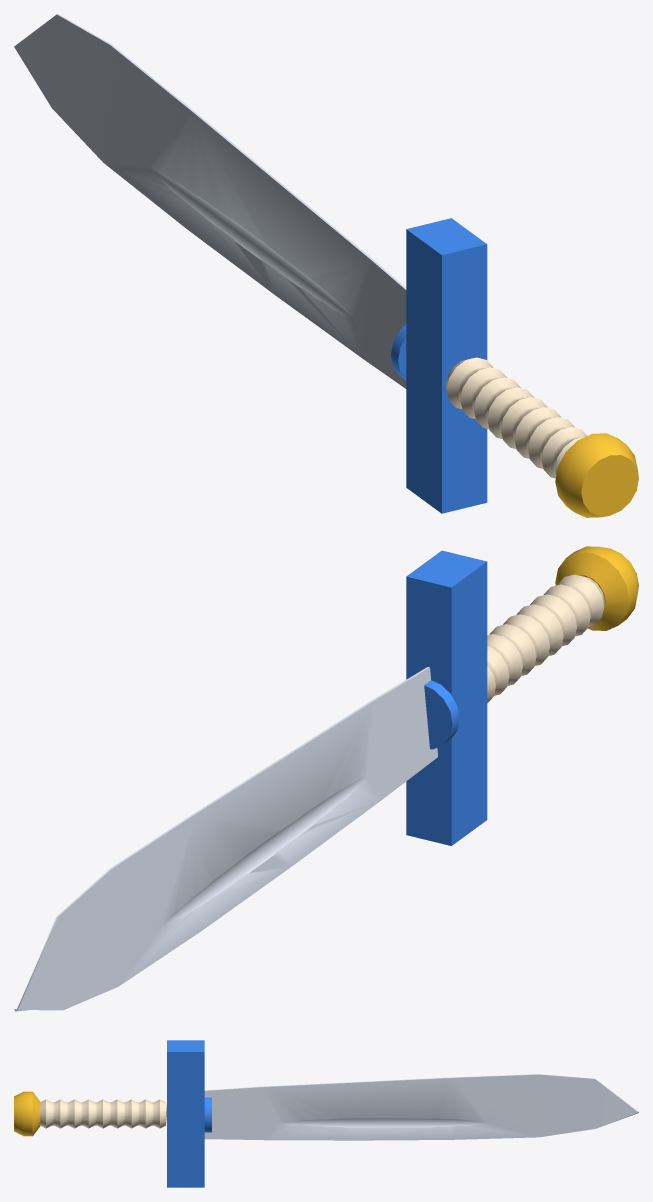
Rendered from SwordMeshTemplate.glb.
3 renders of one model, top to bottom at view 1: azimuth 30°, elevation 25°; view 2: azimuth 150°, elevation 25°; view 3: azimuth 270°, elevation 25°, orthographic. The views are drawn at different scales.
Visible parts, largest first — view 1: SwordMeshTemplate; view 2: SwordMeshTemplate; view 3: SwordMeshTemplate.
Part boxes in pixels (left/top/right/bottom): SwordMeshTemplate: left=14, top=14, right=638, bottom=517; SwordMeshTemplate: left=14, top=546, right=638, bottom=1011; SwordMeshTemplate: left=14, top=1040, right=638, bottom=1187.
Bounding box in the file's own units: 0.072 × 0.24 × 1.
1 material, 1 textured.
